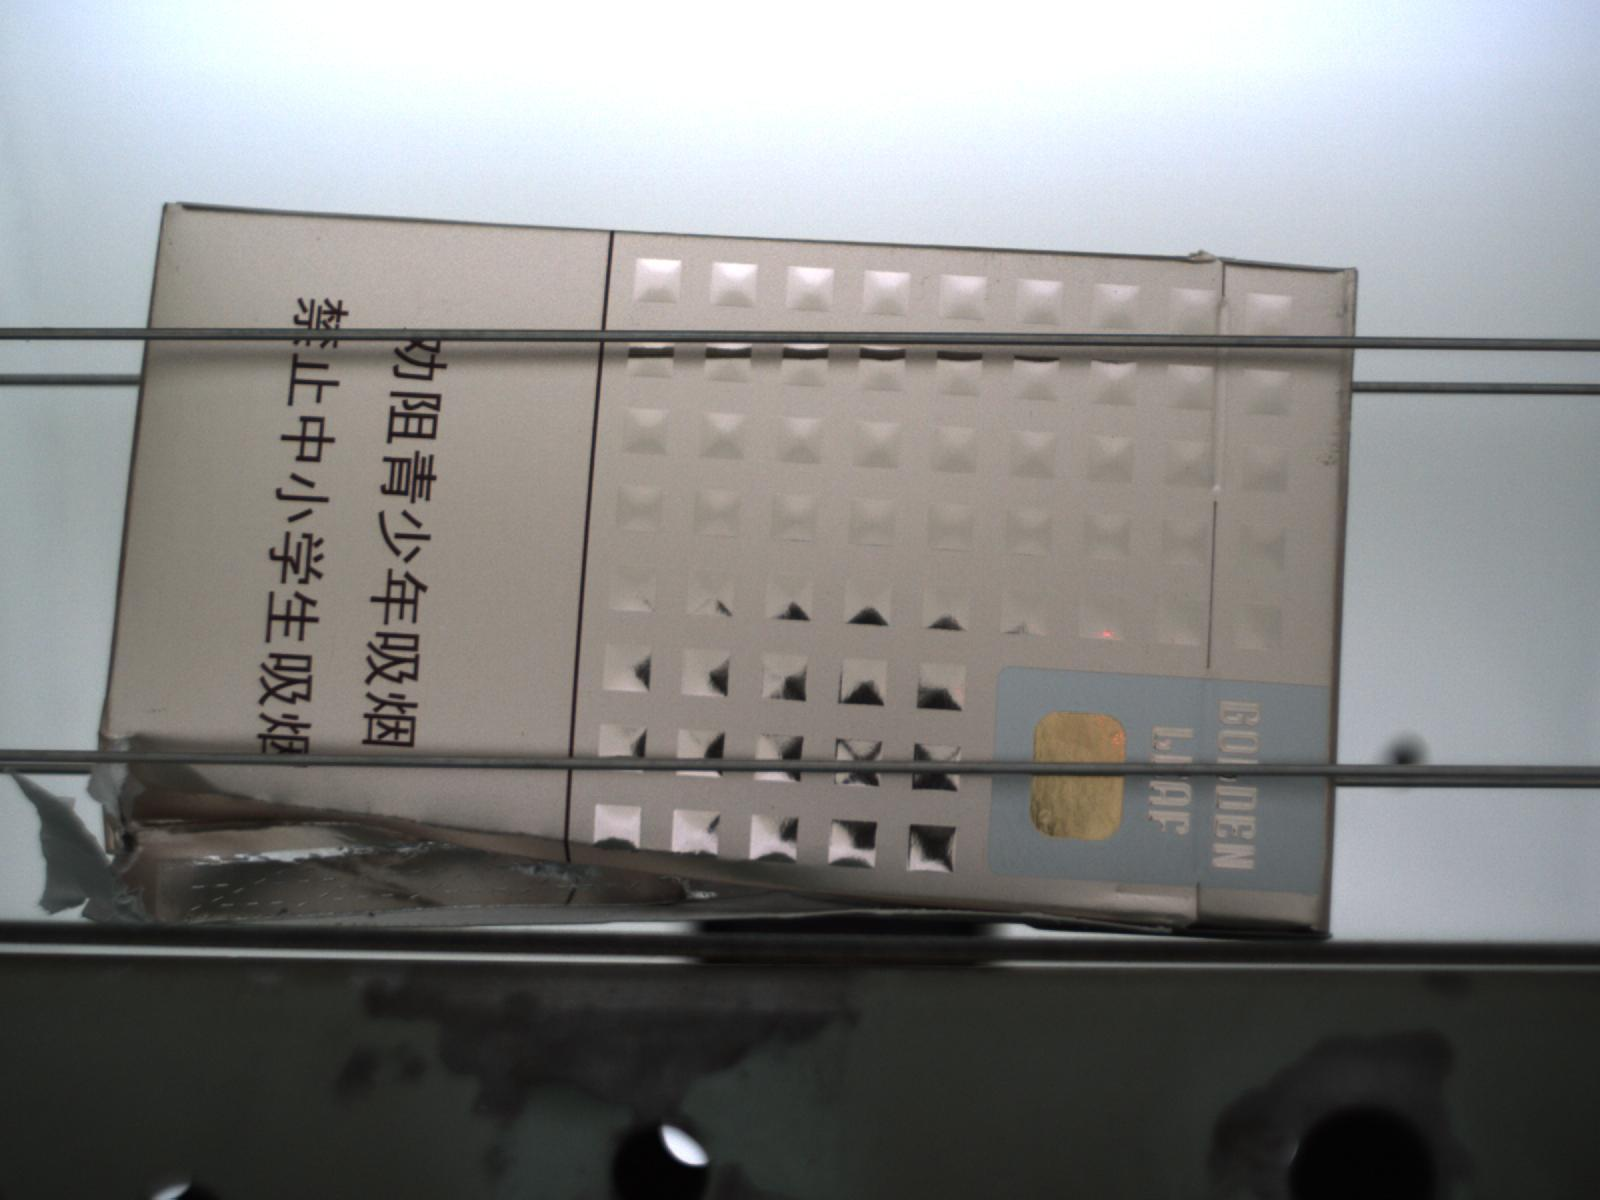dirtyScratch: (64, 742, 981, 942)
dirtySpot: (312, 232, 325, 245), (517, 729, 528, 737)
